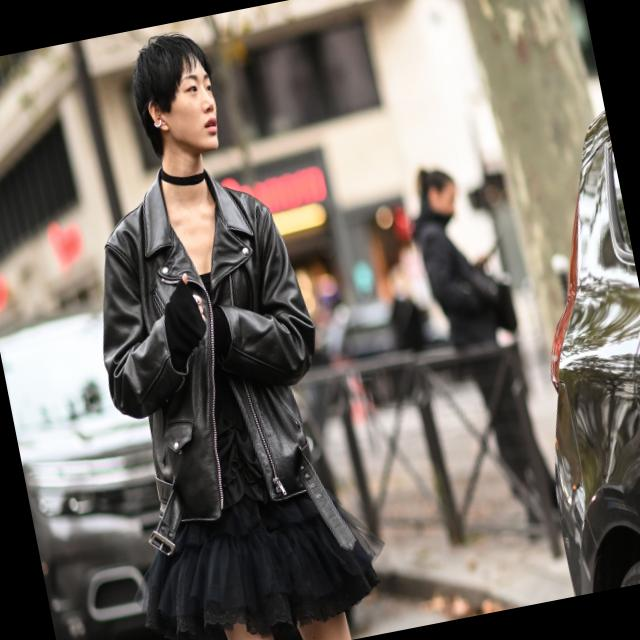Jacket: (65, 140, 358, 548)
